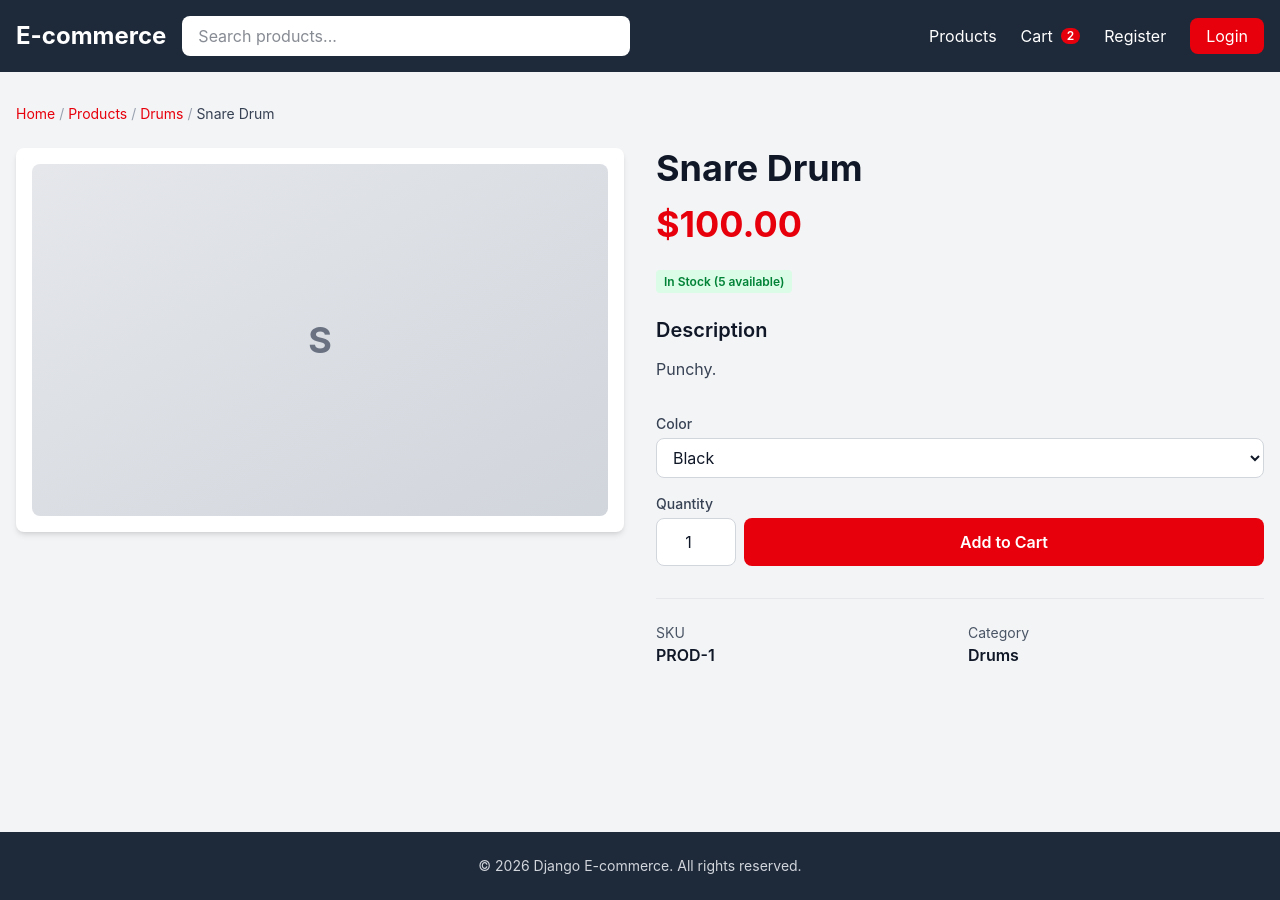
Test case: product detail › adds the chosen options to the cart and updates the navbar count
Select "Red" in the dropdown labelled "Color" at x=960, y=458, box 656,438 -> 1264,478
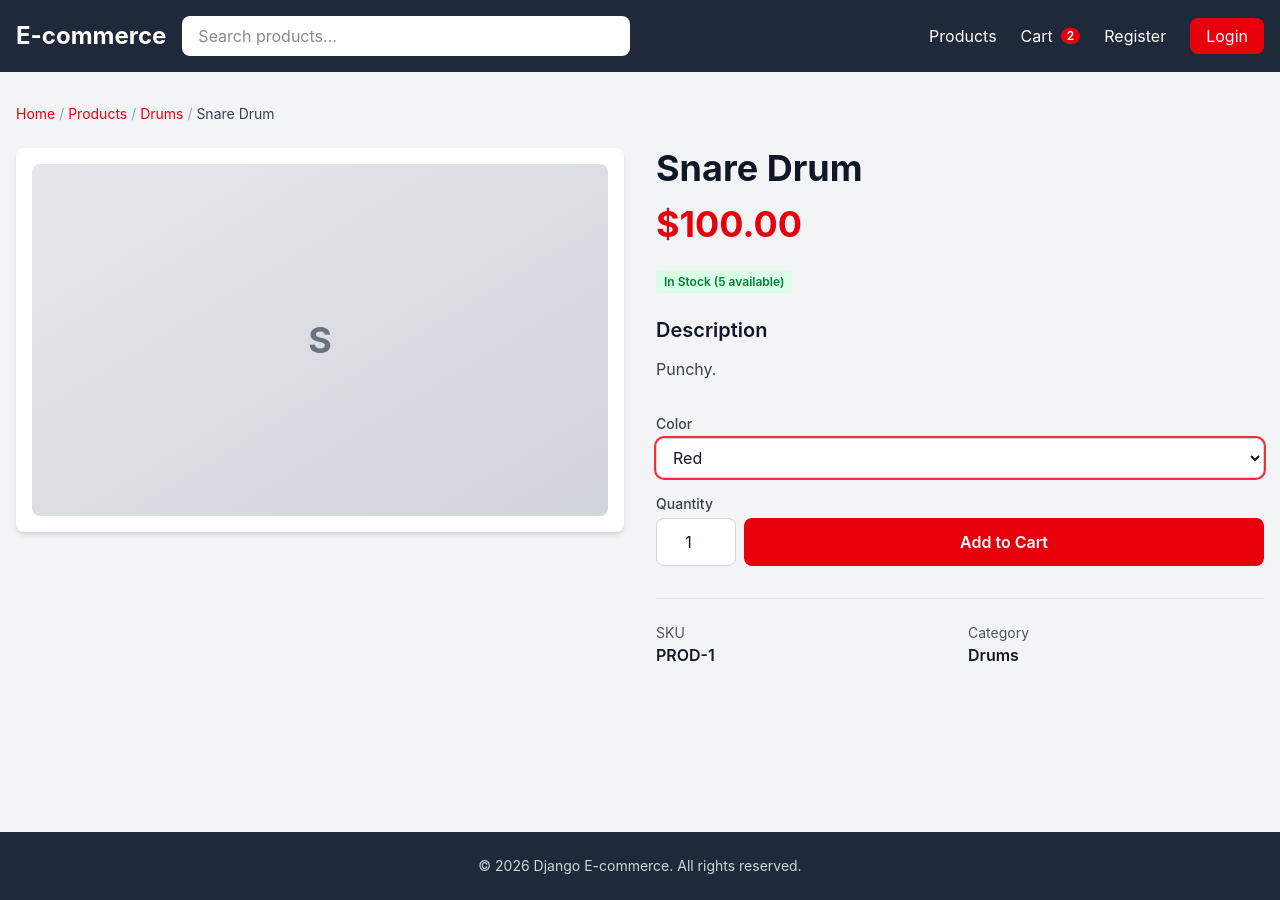
Replace the text in the number field labelled "Quantity" with "2" at x=696, y=542, box 656,518 -> 736,566
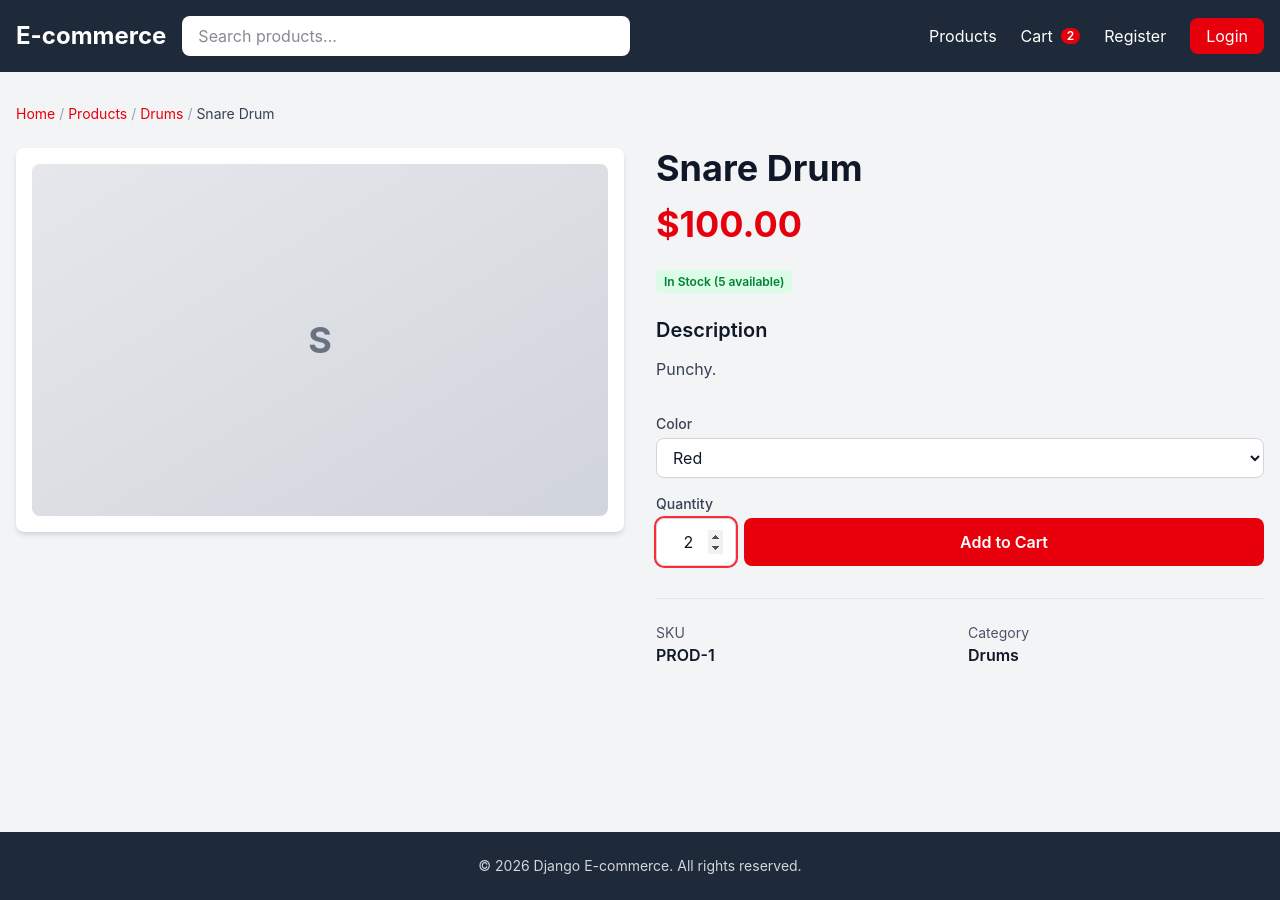
Click the button "Add to Cart" at x=1004, y=542, box 744,518 -> 1264,566
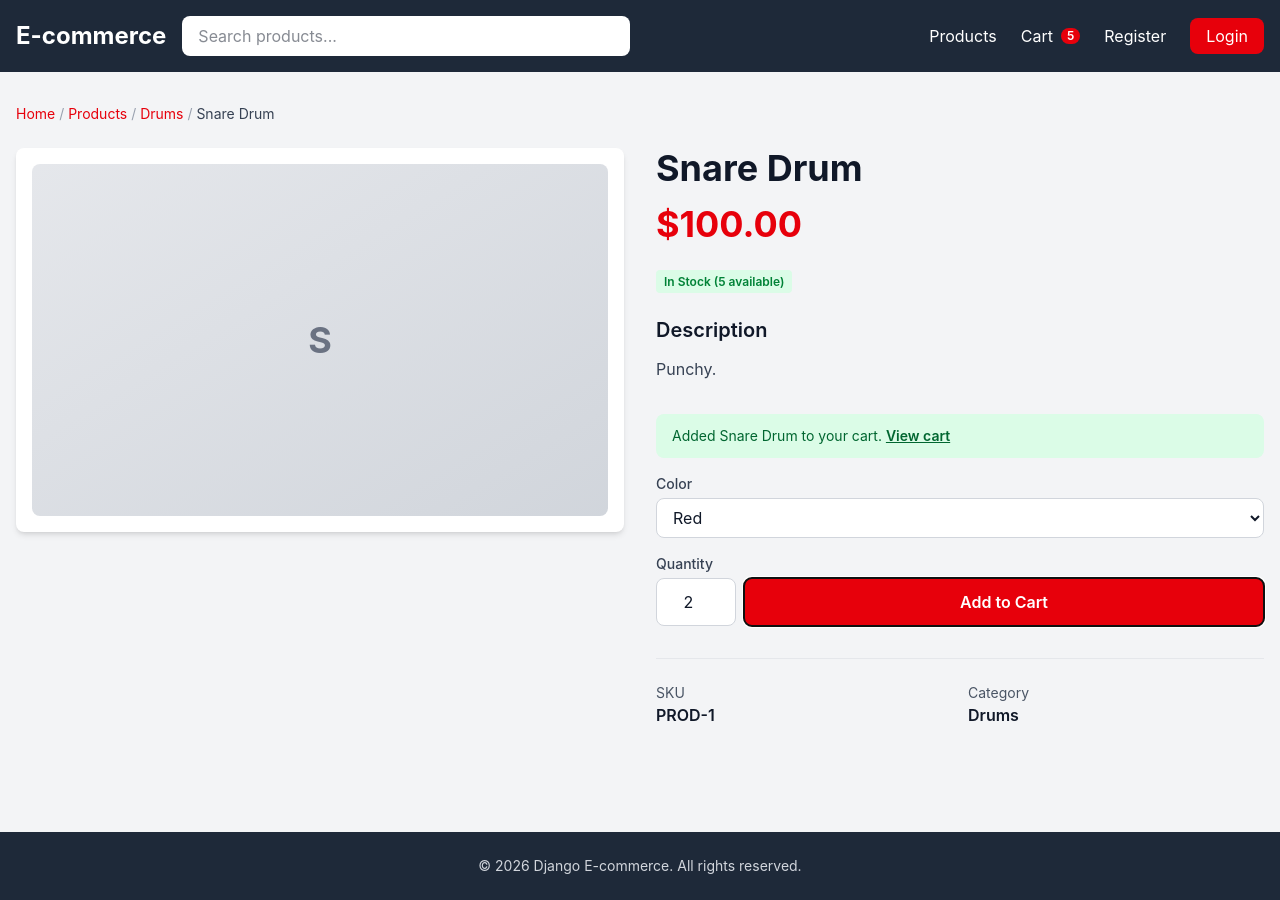
expect the text "5" is shown: met, box 1061,28 -> 1080,44
expect the text "Added Snare Drum to your cart. View cart" is shown: met, box 656,414 -> 1264,458
